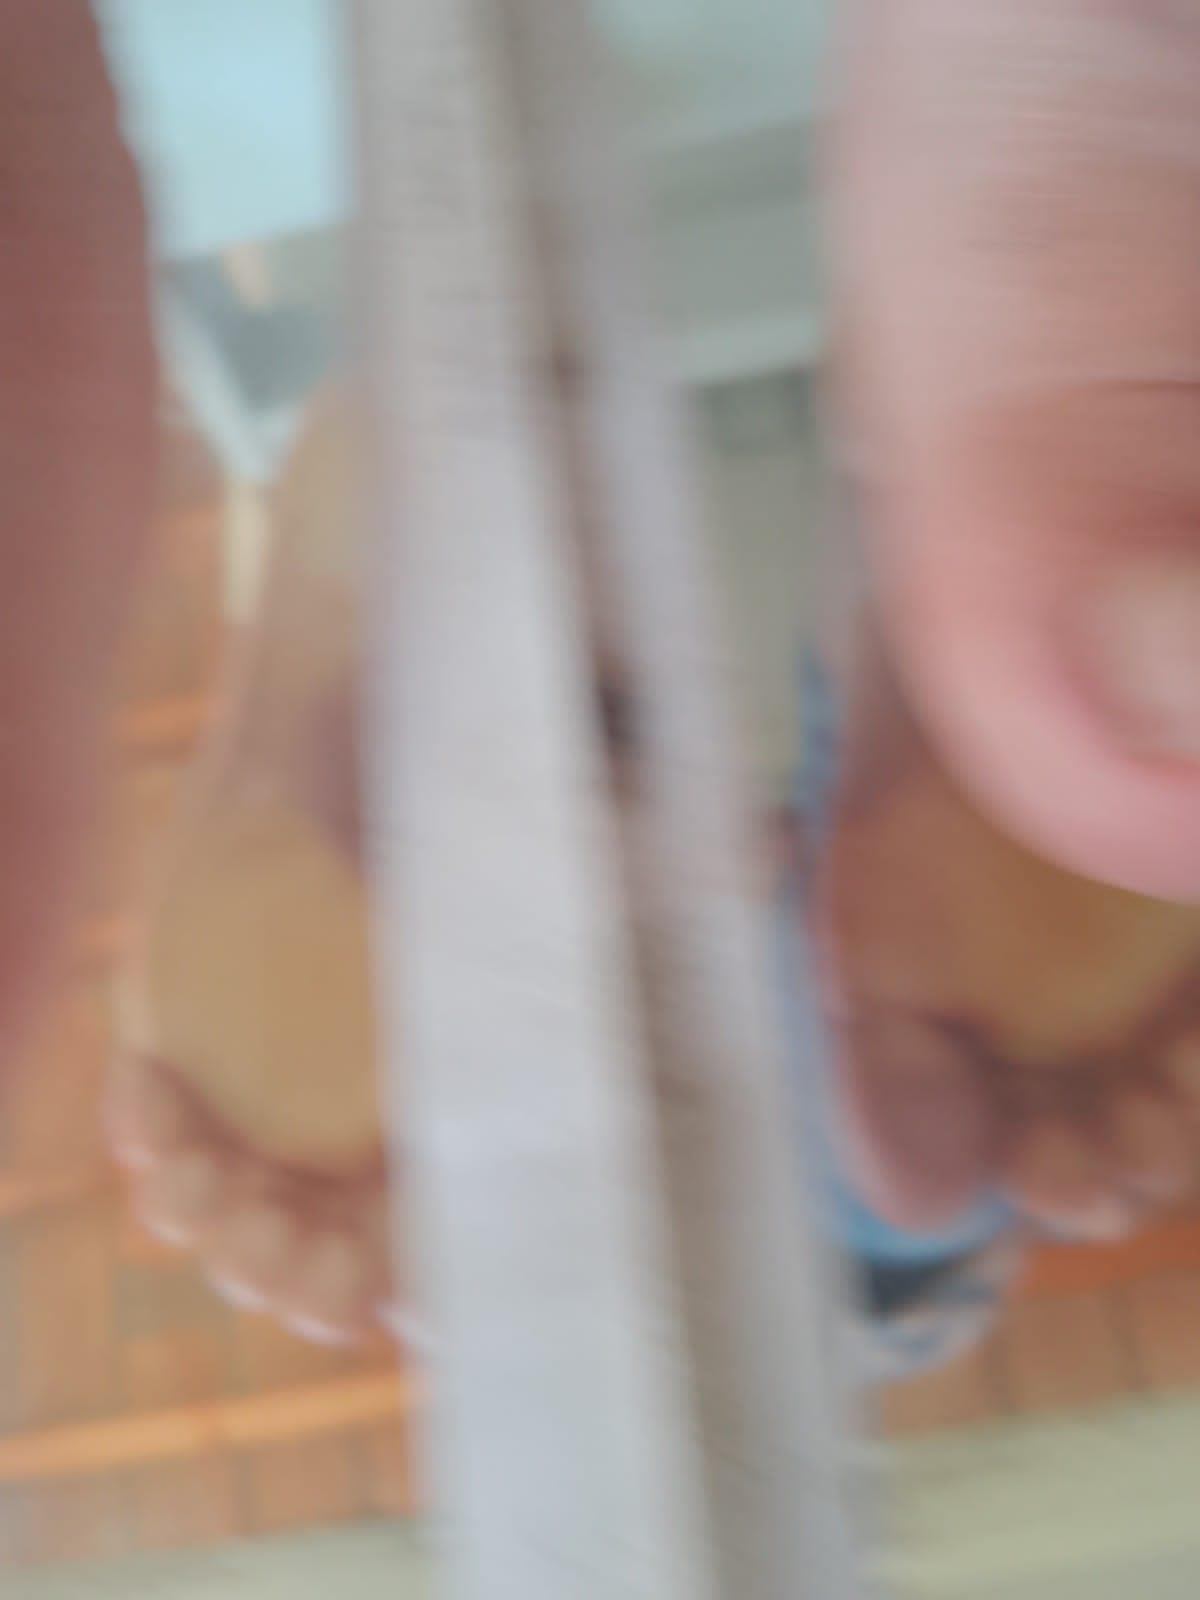Present: (107, 266, 503, 1412)
